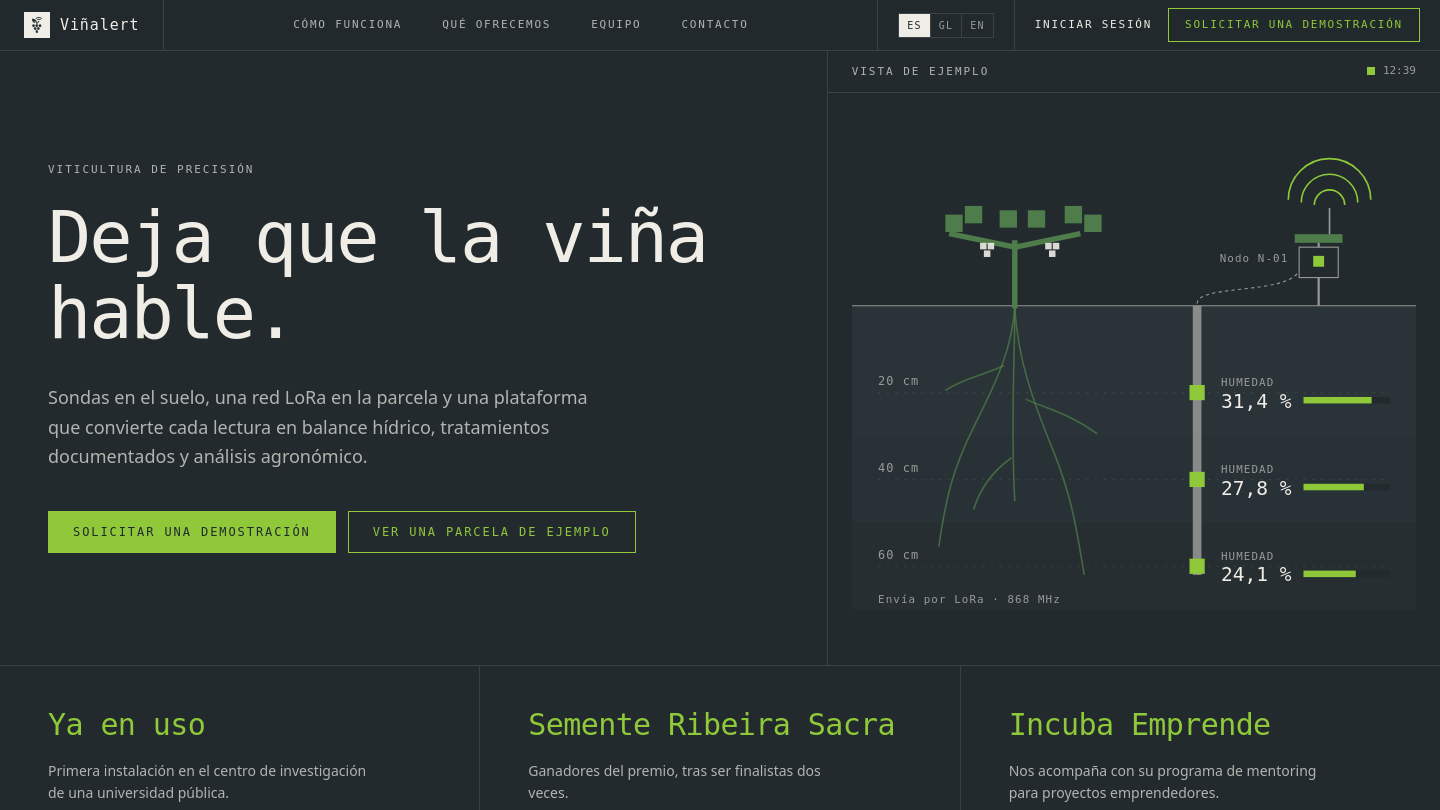
it: el selector cambia la portada entre castellano, galego e ingles
Expected: the heading "Deja que la viña hable." is shown, left=48, top=200, right=720, bottom=351
What coordinates should you click on to do the following:
click the button with aria-label "Galego"
I would click on:
 (947, 25)
Its box is left=931, top=14, right=962, bottom=36.
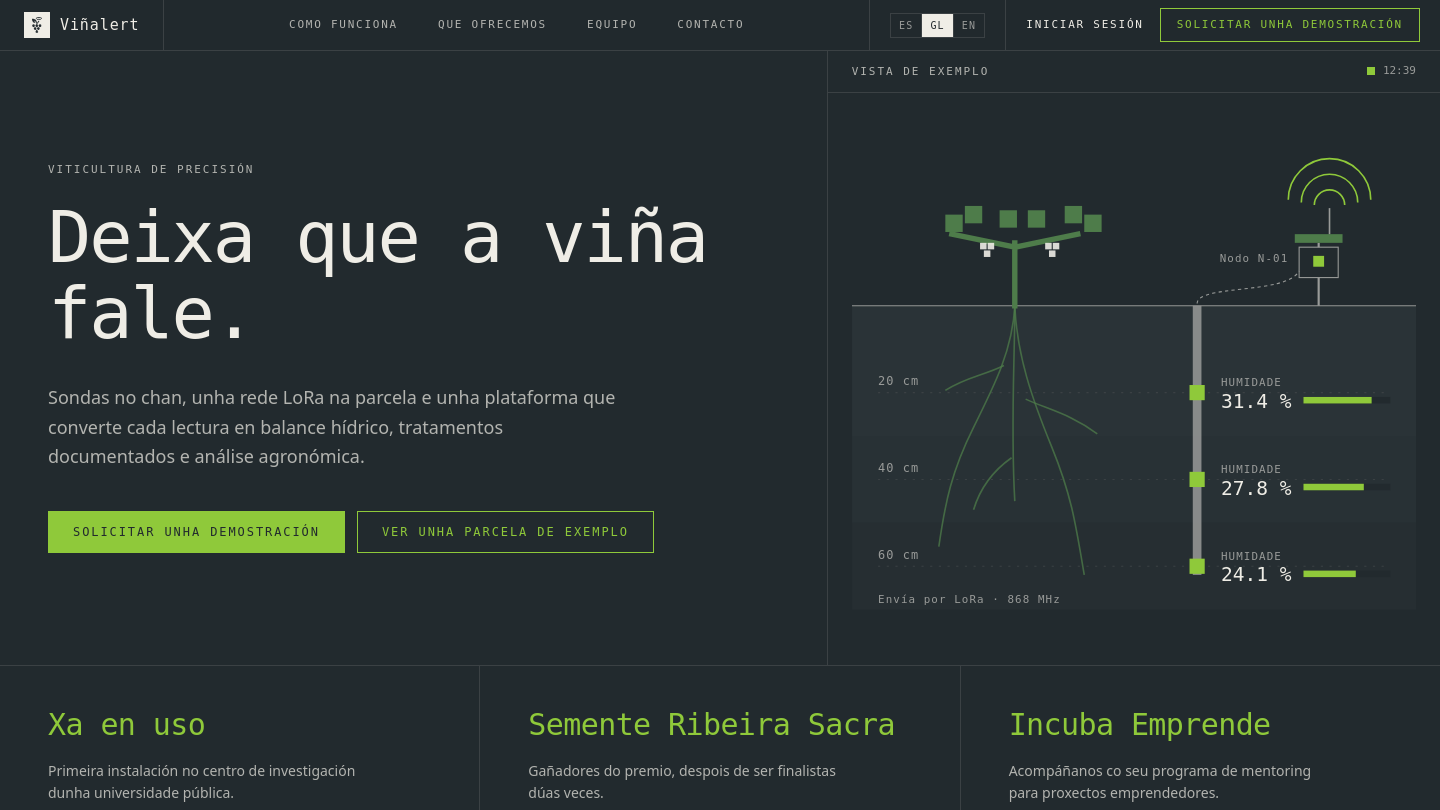
Expected: the heading "Deixa que a viña fale." is shown, left=48, top=200, right=720, bottom=351
What coordinates should you click on to do the following:
click the button with aria-label "English"
I would click on:
 (969, 25)
Its box is left=954, top=14, right=984, bottom=36.
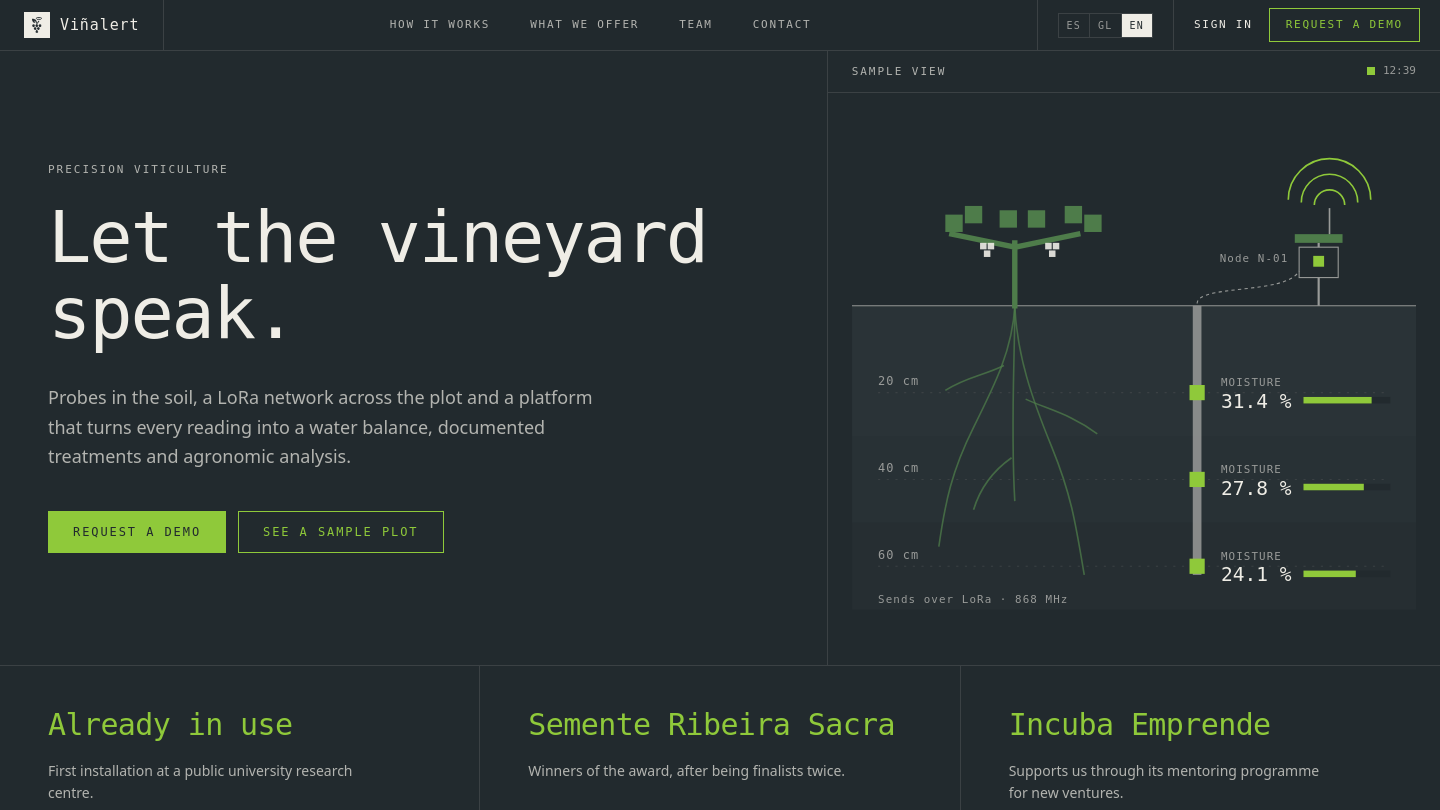
Expected: the heading "Let the vineyard speak." is shown, left=48, top=200, right=720, bottom=351
